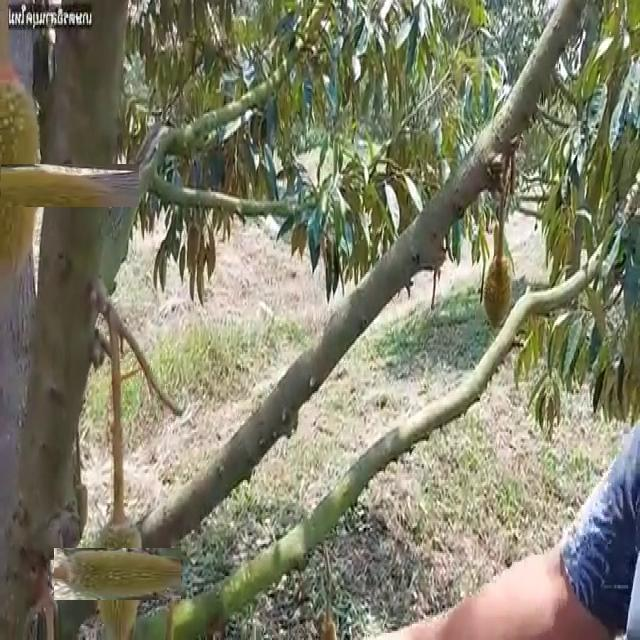durian: (0, 116, 92, 255), (73, 529, 163, 619), (481, 252, 514, 336)
